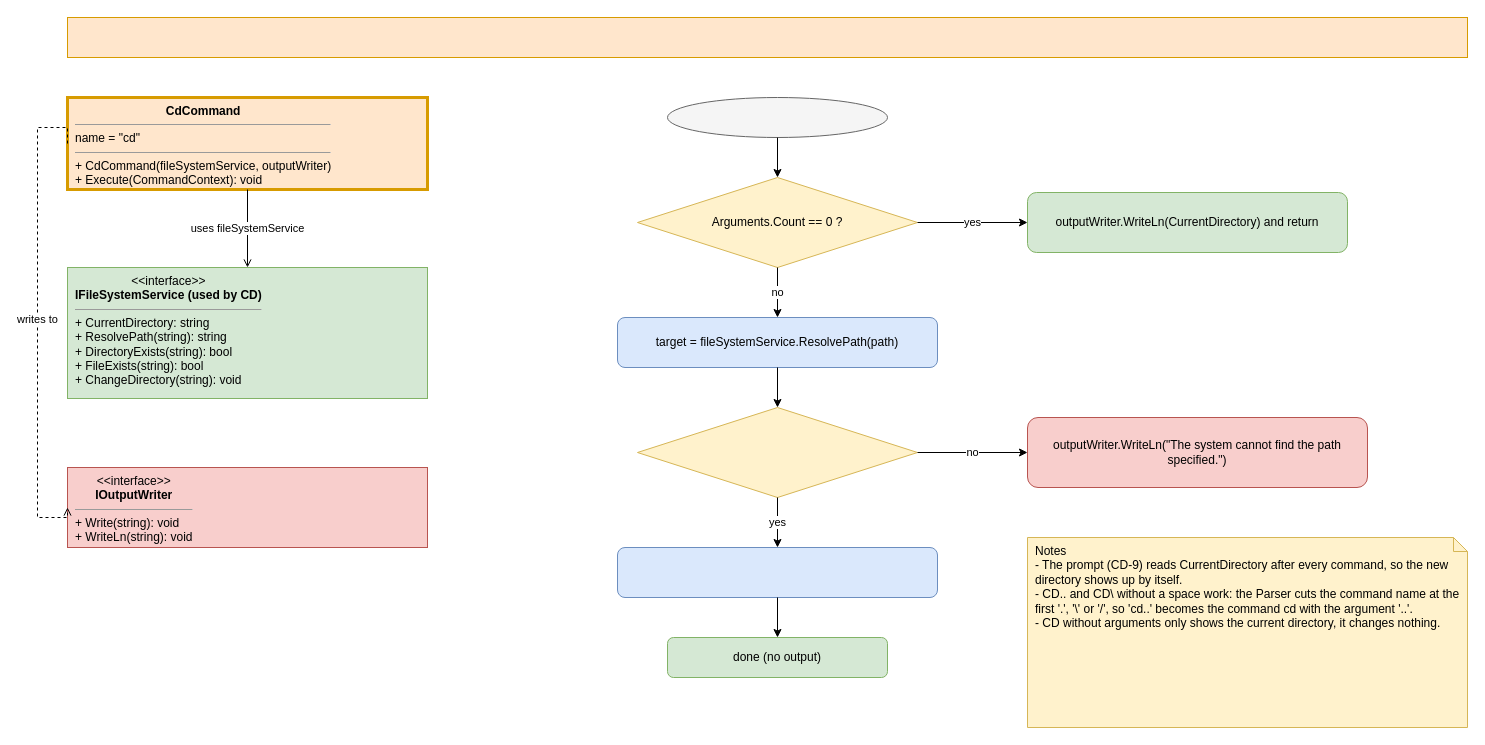
This 1485x745 diagram has some shape labels left out. Each missing label, with the centre of its shape:
"CD command (CD-5) - class view and Execute flow (current code)" belongs at pixel 767 37.
"DirectoryExists(target) ?" belongs at pixel 777 452.
"Execute(context)" belongs at pixel 777 117.
"fileSystemService.ChangeDirectory(target)" belongs at pixel 777 572.
